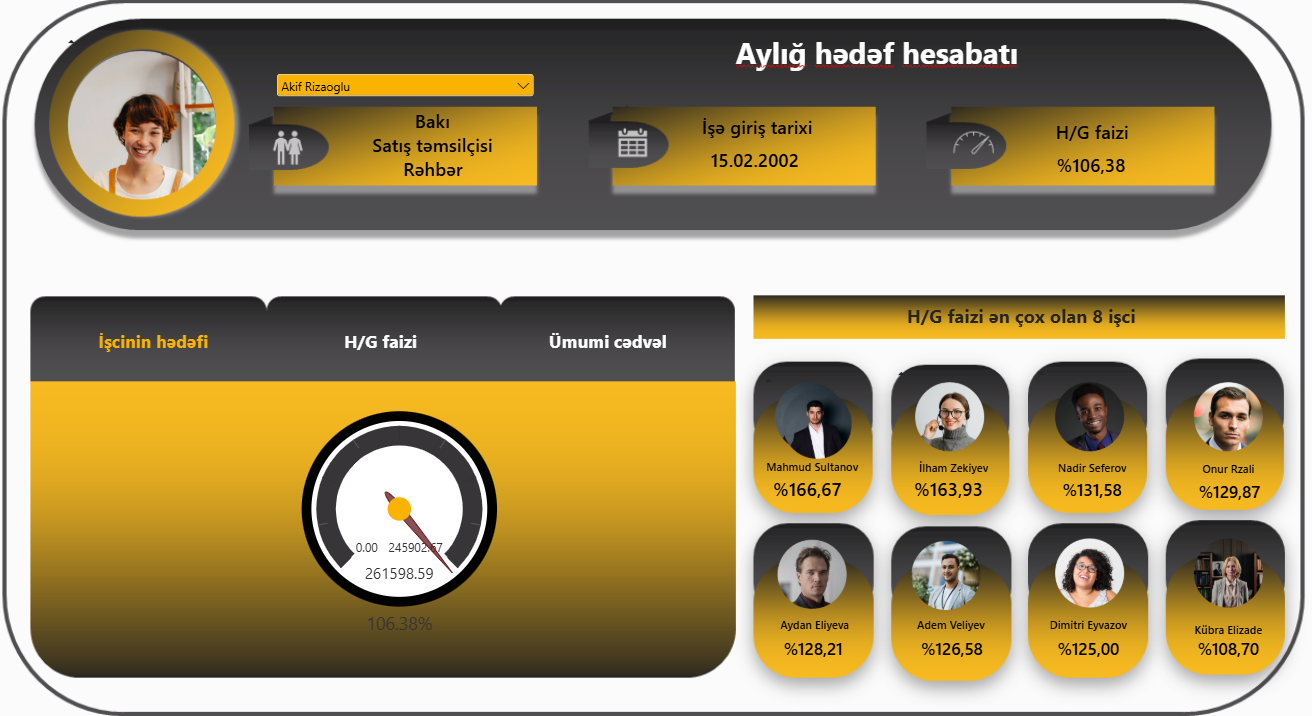

What the dashboard file says about the page in this screenshot:
{"tool":"powerbi","page":{"name":"1. sayfa","canvas":[1920,1080],"ordinal":0},"visuals":[{"type":"slicer","fields":{"Values":["son_dönem.Işci adı"]},"box":[411.7,121.4,380.8,39.1],"z":0},{"type":"tableEx","fields":{"Values":["son_dönem.Foto Url"]},"box":[91.2,39.4,300,300],"z":1000},{"type":"cardVisual","fields":{"Data":["Min(son_dönem.Yer)"]},"box":[489.5,175,304.1,33.3],"z":2000},{"type":"cardVisual","fields":{"Data":["Min(son_dönem.Vezife)"]},"box":[489.5,208.3,304.1,39.6],"z":3000},{"type":"cardVisual","fields":{"Data":["Min(son_dönem.Ünvanı)"]},"box":[490,247.5,302.5,30],"z":4000},{"type":"textbox","box":[960.2,185.4,299.9,39.6],"z":5000},{"type":"cardVisual","fields":{"Data":["Min(son_dönem.İşe giriş vaxtı)"]},"box":[956,229.1,304.1,39.6],"z":6000},{"type":"cardVisual","fields":{"Data":["Sum(son_dönem.H/G)"]},"box":[1442.6,237.5,304.1,39.6],"z":7000},{"type":"textbox","box":[1446.7,191.7,299.9,39.6],"z":8000},{"type":"textbox","box":[1110,457.5,767.5,47.5],"z":9000},{"type":"tableEx","fields":{"Values":["Olculer.Birinci_foto"]},"box":[1090,520,202.5,175],"z":10000},{"type":"cardVisual","fields":{"Data":["Olculer.Birinci_isim"]},"box":[1090,665,202.5,60],"z":11000},{"type":"cardVisual","fields":{"Data":["Olculer.HG"]},"box":[1107.5,705,152.5,40],"z":12000},{"type":"tableEx","fields":{"Values":["Olculer.Birinci_foto"]},"box":[1100,530,202.5,175],"z":13000},{"type":"tableEx","fields":{"Values":["Olculer.Ikinci_foto"]},"box":[1292.5,520,202.5,175],"z":14000},{"type":"cardVisual","fields":{"Data":["Olculer.HG2"]},"box":[1302.5,705,170,40],"z":15000},{"type":"cardVisual","fields":{"Data":["Olculer.2_isim"]},"box":[1310,670,170,50],"z":16000},{"type":"tableEx","fields":{"Values":["Olculer.Ucuncu_foto"]},"box":[1495,520,200,175],"z":17000},{"type":"cardVisual","fields":{"Data":["Olculer.HG3"]},"box":[1517.5,710,155,35],"z":18000},{"type":"cardVisual","fields":{"Data":["Olculer.3_isim"]},"box":[1517.5,670,155,50],"z":19000},{"type":"tableEx","fields":{"Values":["Olculer.dorduncu_foto"]},"box":[1695,520,200,175],"z":20000},{"type":"cardVisual","fields":{"Data":["Olculer.4_isim"]},"box":[1712.5,680,162.5,32.5],"z":21000},{"type":"cardVisual","fields":{"Data":["Olculer.HG4"]},"box":[1725,712.5,140,35],"z":22000},{"type":"tableEx","fields":{"Values":["Olculer.besinci_foto"]},"box":[1092.5,747.5,200,175],"z":23000},{"type":"cardVisual","fields":{"Data":["Olculer.5_isim"]},"box":[1112.5,907.5,162.5,32.5],"z":24000},{"type":"cardVisual","fields":{"Data":["Olculer.HG5"]},"box":[1122.5,940,140,35],"z":25000},{"type":"tableEx","fields":{"Values":["Olculer.altinci_foto"]},"box":[1287.5,750,200,175],"z":26000},{"type":"cardVisual","fields":{"Data":["Olculer.6_isim"]},"box":[1310,907.5,162.5,32.5],"z":27000},{"type":"cardVisual","fields":{"Data":["Olculer.HG6"]},"box":[1322.5,940,140,35],"z":28000},{"type":"tableEx","fields":{"Values":["Olculer.yeddinci_foto"]},"box":[1495,745,200,175],"z":29000},{"type":"cardVisual","fields":{"Data":["Olculer.7_isim"]},"box":[1510,907.5,162.5,32.5],"z":30000},{"type":"cardVisual","fields":{"Data":["Olculer.HG7"]},"box":[1510,940,162.5,35],"z":31000},{"type":"tableEx","fields":{"Values":["Olculer.seggizci_foto"]},"box":[1696,746,200,175],"z":32000},{"type":"cardVisual","fields":{"Data":["Olculer.8_isim"]},"box":[1712,908,162,42],"z":33000},{"type":"cardVisual","fields":{"Data":["Olculer.HG8"]},"box":[1712,940,162.5,35],"z":34000},{"type":"stackedAreaChart","fields":{"Category":["tüm_dönem_hg.Dönem.Varyasyon.Tarih Hiyerarşisi.Ay"],"Y":["Sum(tüm_dönem_hg.H/G)"]},"box":[92,608,958,342],"z":36000},{"type":"bookmarkNavigator","box":[76,482,980,62],"z":39000},{"type":"textbox","box":[872,66,824,74],"z":39001}]}

Visuals, with their boxes on the page's 1920x1080 design canvas (x1, y1, x2, y2). These are canvas units, not pixel positions in the 1312x716 screenshot, which may show the page scaled, cropped or inside an application window:
slicer - son_dönem.Işci adı: 412,121,792,160
tableEx - son_dönem.Foto Url: 91,39,391,339
cardVisual - Min(son_dönem.Yer): 490,175,794,208
cardVisual - Min(son_dönem.Vezife): 490,208,794,248
cardVisual - Min(son_dönem.Ünvanı): 490,248,792,278
textbox: 960,185,1260,225
cardVisual - Min(son_dönem.İşe giriş vaxtı): 956,229,1260,269
cardVisual - Sum(son_dönem.H/G): 1443,238,1747,277
textbox: 1447,192,1747,231
textbox: 1110,458,1878,505
tableEx - Olculer.Birinci_foto: 1090,520,1292,695
cardVisual - Olculer.Birinci_isim: 1090,665,1292,725
cardVisual - Olculer.HG: 1108,705,1260,745
tableEx - Olculer.Birinci_foto: 1100,530,1302,705
tableEx - Olculer.Ikinci_foto: 1292,520,1495,695
cardVisual - Olculer.HG2: 1302,705,1472,745
cardVisual - Olculer.2_isim: 1310,670,1480,720
tableEx - Olculer.Ucuncu_foto: 1495,520,1695,695
cardVisual - Olculer.HG3: 1518,710,1672,745
cardVisual - Olculer.3_isim: 1518,670,1672,720
tableEx - Olculer.dorduncu_foto: 1695,520,1895,695
cardVisual - Olculer.4_isim: 1712,680,1875,712
cardVisual - Olculer.HG4: 1725,712,1865,748
tableEx - Olculer.besinci_foto: 1092,748,1292,922
cardVisual - Olculer.5_isim: 1112,908,1275,940
cardVisual - Olculer.HG5: 1122,940,1262,975
tableEx - Olculer.altinci_foto: 1288,750,1488,925
cardVisual - Olculer.6_isim: 1310,908,1472,940
cardVisual - Olculer.HG6: 1322,940,1462,975
tableEx - Olculer.yeddinci_foto: 1495,745,1695,920
cardVisual - Olculer.7_isim: 1510,908,1672,940
cardVisual - Olculer.HG7: 1510,940,1672,975
tableEx - Olculer.seggizci_foto: 1696,746,1896,921
cardVisual - Olculer.8_isim: 1712,908,1874,950
cardVisual - Olculer.HG8: 1712,940,1874,975
stackedAreaChart - tüm_dönem_hg.Dönem.Varyasyon.Tarih Hiyerarşisi.Ay x Sum(tüm_dönem_hg.H/G): 92,608,1050,950
bookmarkNavigator: 76,482,1056,544
textbox: 872,66,1696,140
